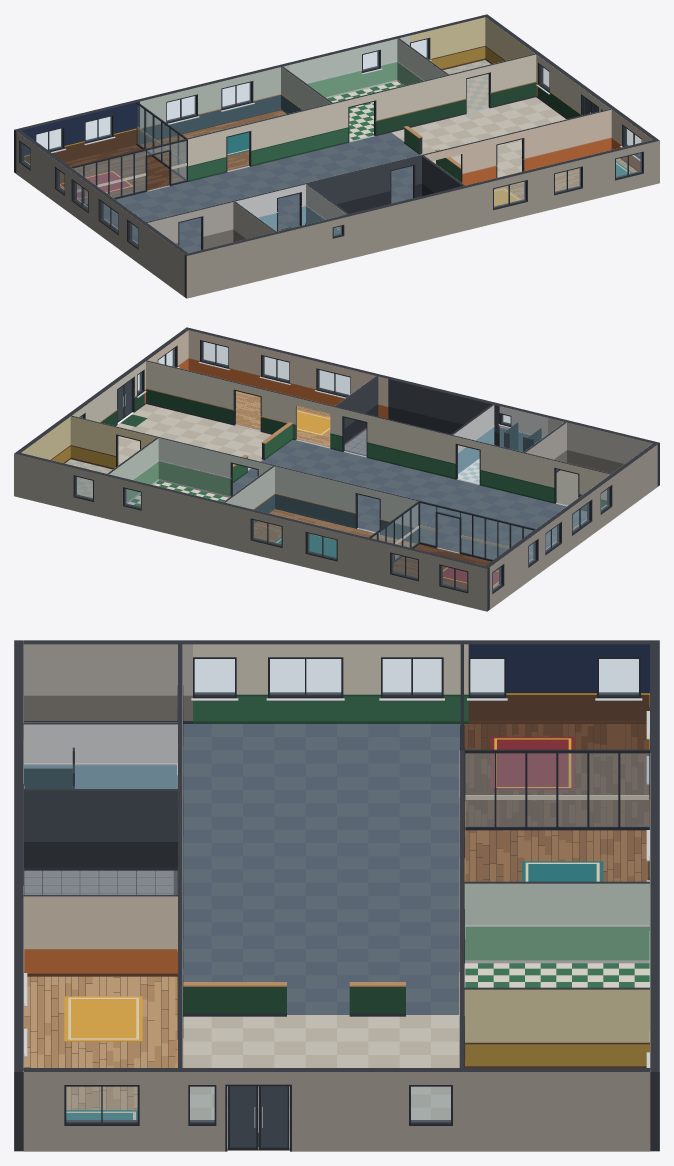
The model's file is OfficeShell.fbx.
The picture shows the model from 3 angles, top to bottom: view 1: azimuth 30°, elevation 25°; view 2: azimuth 150°, elevation 25°; view 3: azimuth 270°, elevation 25°; orthographic projection. The views are drawn at different scales.
Visible parts, largest first — view 1: Floor_office, Floor_reception, Floor_manager, Wall_063, Wall_058, Wall_057, Wall_078, Wall_079, Wall_018, Wall_056, Wall_073, Wall_023 (+73 smaller); view 2: Floor_office, Floor_reception, Wall_063, Wall_078, Wall_079, Wall_070, Wall_072, Wall_073, Wall_057, Wall_058, Wall_012, Wall_010 (+75 smaller); view 3: Floor_office, Floor_reception, Floor_manager, Floor_lounge, Wall_055, Wall_054, Floor_meeting, Wall_064, Wall_065, Glass_004, Wall_042, Glass_005 (+38 smaller).
Boxes of the visible parts, left/top/right/bottom form: Floor_office: left=103, top=132, right=421, bottom=252; Floor_reception: left=391, top=97, right=566, bottom=177; Floor_manager: left=60, top=145, right=183, bottom=204; Wall_063: left=488, top=53, right=536, bottom=107; Wall_058: left=291, top=103, right=333, bottom=156; Wall_057: left=249, top=113, right=291, bottom=166; Wall_078: left=521, top=119, right=567, bottom=171; Wall_079: left=566, top=109, right=611, bottom=160; Wall_018: left=184, top=245, right=223, bottom=298; Wall_056: left=187, top=129, right=227, bottom=181; Wall_073: left=348, top=162, right=391, bottom=213; Wall_023: left=342, top=206, right=381, bottom=260; Floor_office: left=233, top=440, right=586, bottom=560; Floor_reception: left=116, top=404, right=271, bottom=470; Wall_063: left=70, top=415, right=117, bottom=469; Wall_078: left=190, top=371, right=235, bottom=425; Wall_079: left=146, top=360, right=191, bottom=414; Wall_070: left=479, top=442, right=524, bottom=495; Wall_072: left=408, top=424, right=451, bottom=478; Wall_073: left=366, top=414, right=409, bottom=467; Wall_057: left=315, top=475, right=357, bottom=528; Wall_058: left=274, top=465, right=315, bottom=518; Wall_012: left=141, top=483, right=180, bottom=536; Wall_010: left=214, top=500, right=252, bottom=553; Floor_office: left=183, top=724, right=460, bottom=1014; Floor_reception: left=183, top=1015, right=459, bottom=1150; Floor_manager: left=464, top=724, right=649, bottom=826; Floor_lounge: left=24, top=976, right=177, bottom=1109; Wall_055: left=551, top=1068, right=650, bottom=1151; Wall_054: left=453, top=1068, right=551, bottom=1151; Floor_meeting: left=465, top=830, right=649, bottom=881; Wall_064: left=464, top=881, right=557, bottom=963; Wall_065: left=557, top=881, right=649, bottom=963; Glass_004: left=464, top=749, right=557, bottom=830; Wall_042: left=506, top=640, right=596, bottom=723; Glass_005: left=557, top=749, right=650, bottom=830.
Size of what is drawn, in the model's own units: 32.63 by 2.92 by 20.62.
